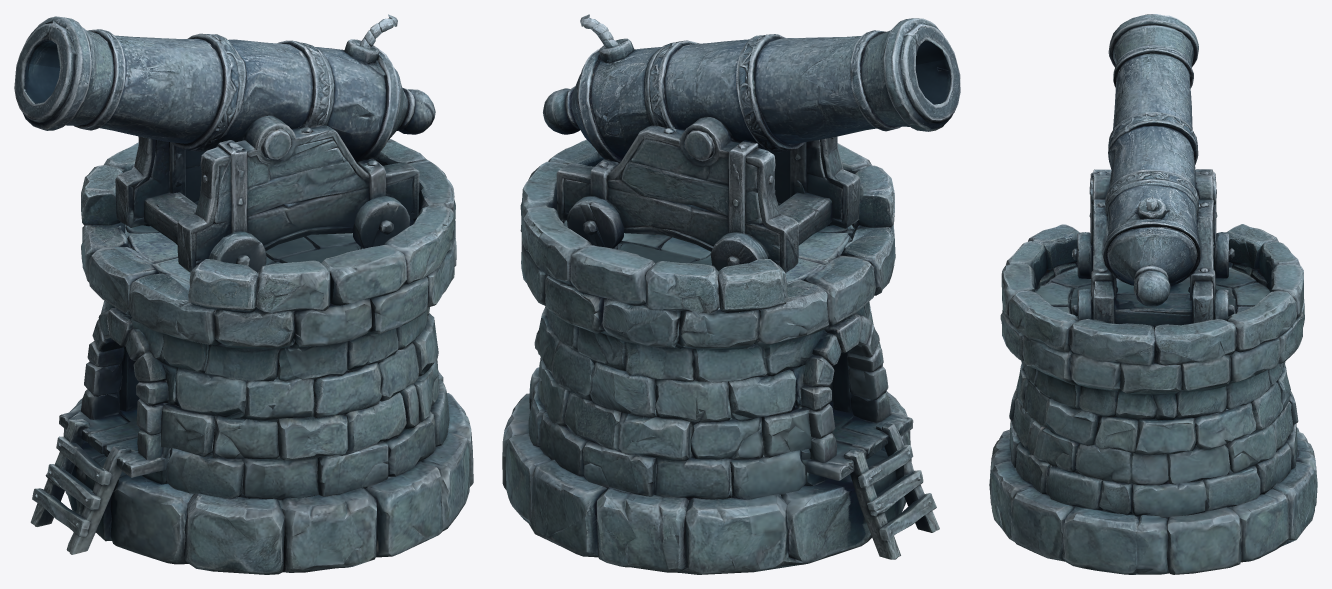
File: SM_FrozenCannonTower.fbx
The picture shows the model from 3 angles, left to right: view 1: azimuth 30°, elevation 25°; view 2: azimuth 150°, elevation 25°; view 3: azimuth 270°, elevation 25°; orthographic projection. The views are drawn at different scales.
Visible parts, largest first — view 1: SM_FrozenCannonTower_LOD0; view 2: SM_FrozenCannonTower_LOD0; view 3: SM_FrozenCannonTower_LOD0.
Boxes of the visible parts, x1=… form: SM_FrozenCannonTower_LOD0: x1=14, y1=14, x2=473, y2=574; SM_FrozenCannonTower_LOD0: x1=502, y1=14, x2=960, y2=574; SM_FrozenCannonTower_LOD0: x1=989, y1=14, x2=1317, y2=574.
Size of what is drawn, in the model's own units: 253 by 215 by 300.
